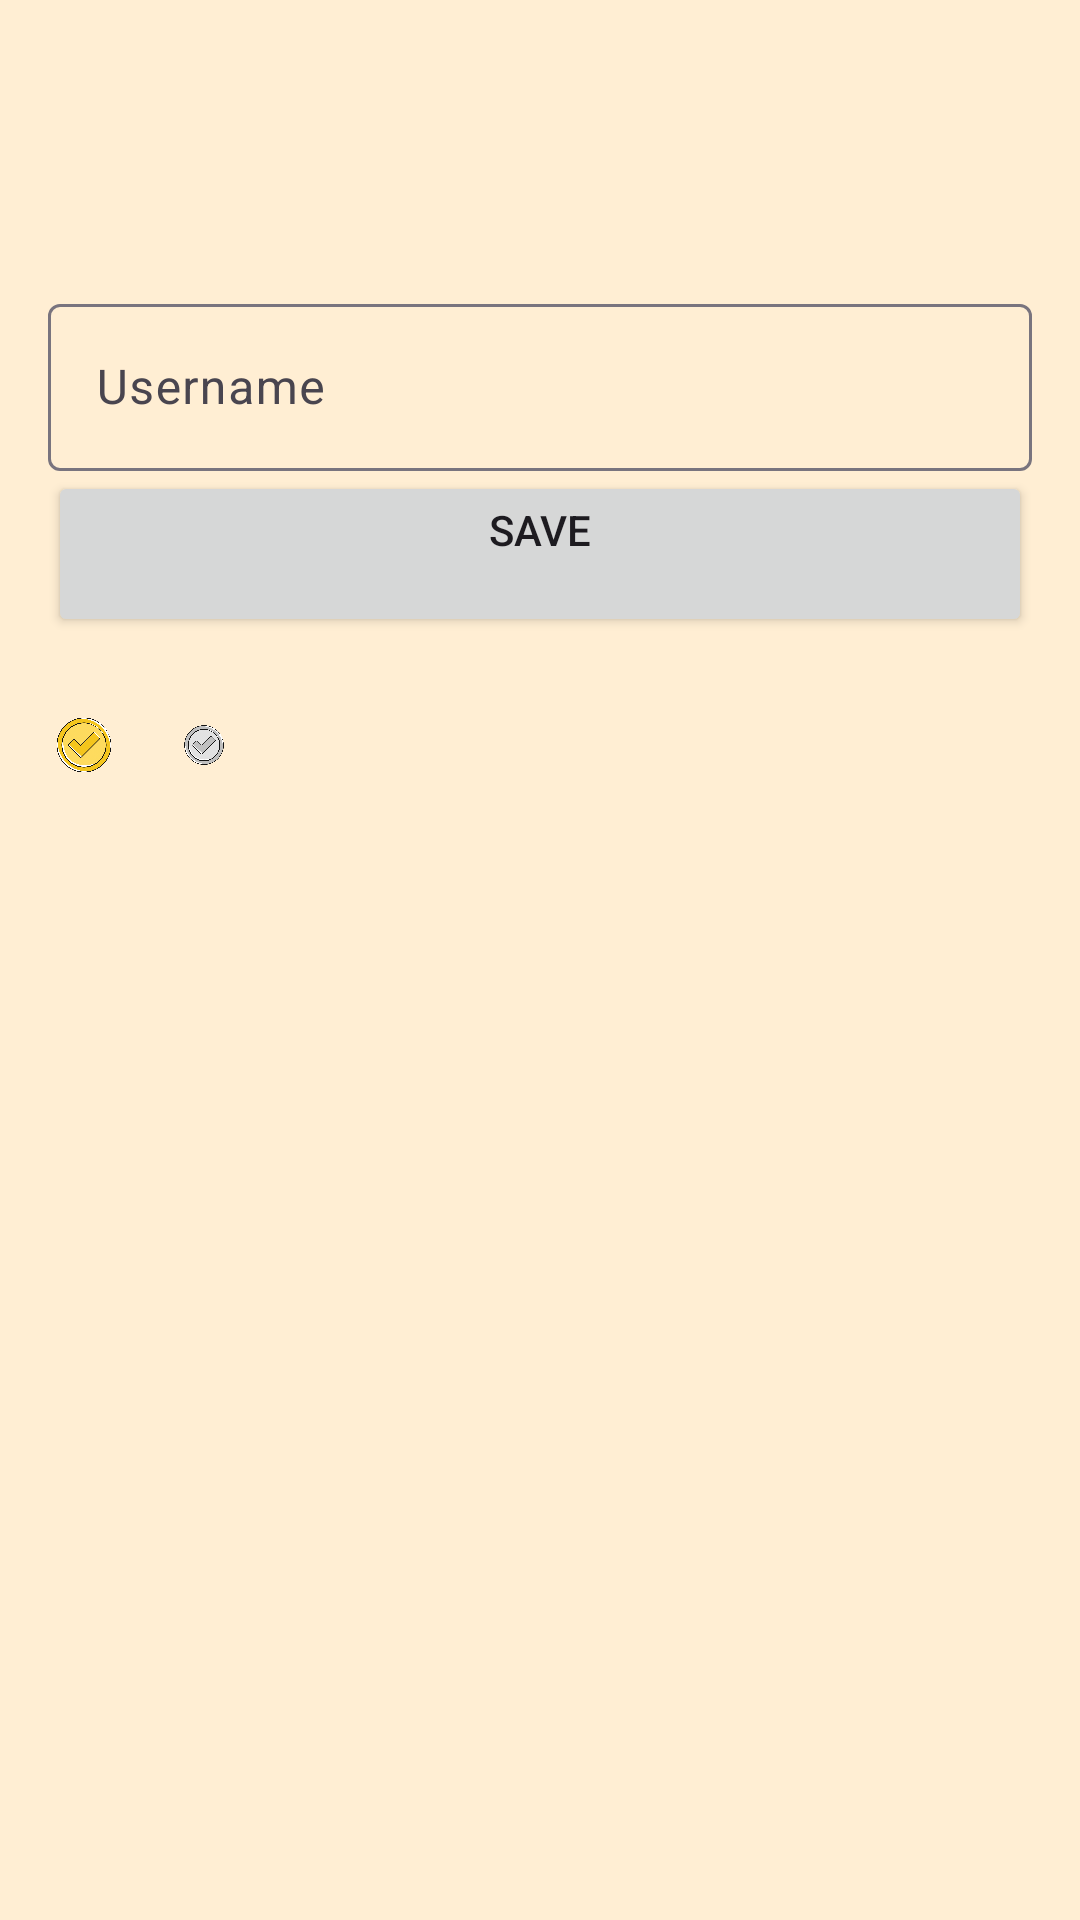

Named icons in this screenshot (1080px x 1920px) and their bounding boxes, (x1, y1, x2, y2):
gold coin: (57, 718, 111, 772)
silver: (184, 725, 224, 765)
